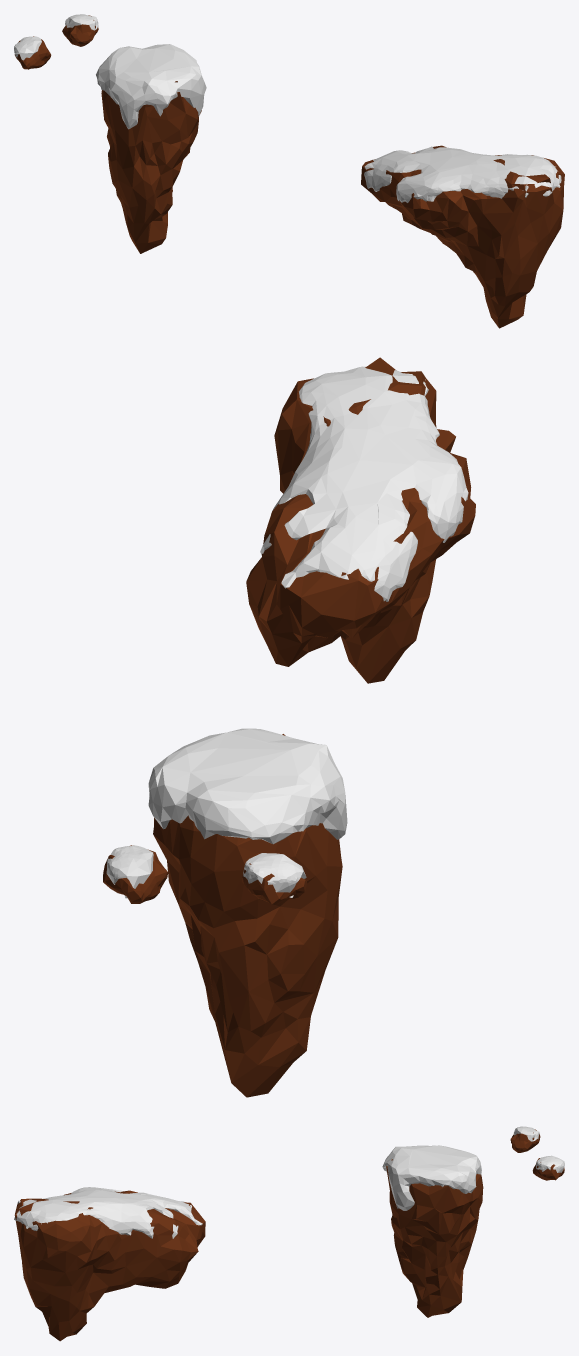
The model's file is Tre_Isola4.fbx.
3 views of the same model, one above another, from view 1: azimuth 30°, elevation 25°; view 2: azimuth 150°, elevation 25°; view 3: azimuth 270°, elevation 25° (orthographic). The views are drawn at different scales.
Parts seen in each view (by area): view 1: Plane.030, Plane.031, Plane.029, Plane.032, Sphere.152, Sphere.149, Sphere.150; view 2: Plane.031, Plane.029, Plane.030, Plane.032, Sphere.150, Sphere.151, Sphere.152, Sphere.149; view 3: Plane.030, Plane.031, Plane.029, Plane.032, Sphere.149, Sphere.151, Sphere.152.
Part boxes in pixels (box(x1,y1,x2,y2)): Plane.030: box(361, 145, 564, 328); Plane.031: box(101, 81, 201, 253); Plane.029: box(364, 146, 561, 202); Plane.032: box(96, 44, 206, 129); Sphere.152: box(62, 15, 98, 46); Sphere.149: box(14, 36, 51, 69); Sphere.150: box(14, 36, 41, 60); Plane.031: box(153, 734, 342, 1097); Plane.029: box(260, 366, 468, 601); Plane.030: box(246, 357, 475, 683); Plane.032: box(148, 728, 347, 844); Sphere.150: box(243, 853, 306, 897); Sphere.151: box(106, 845, 153, 898); Sphere.152: box(103, 845, 167, 903); Sphere.149: box(242, 853, 306, 904); Plane.030: box(14, 1190, 205, 1341); Plane.031: box(386, 1159, 483, 1317); Plane.029: box(14, 1187, 202, 1238); Plane.032: box(382, 1145, 481, 1210); Sphere.149: box(510, 1129, 540, 1152); Sphere.151: box(536, 1155, 564, 1172); Sphere.152: box(532, 1158, 564, 1180).
Bounding box in the file's own units: 158 × 114 × 315.
